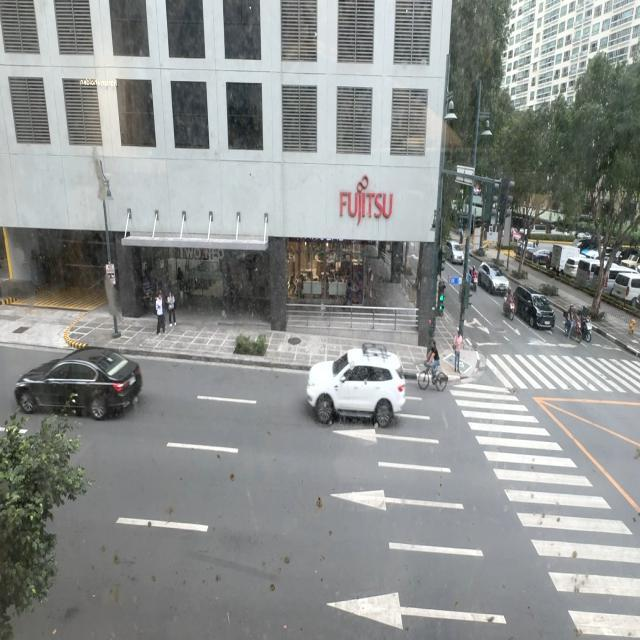waiting: (453, 329, 463, 373)
